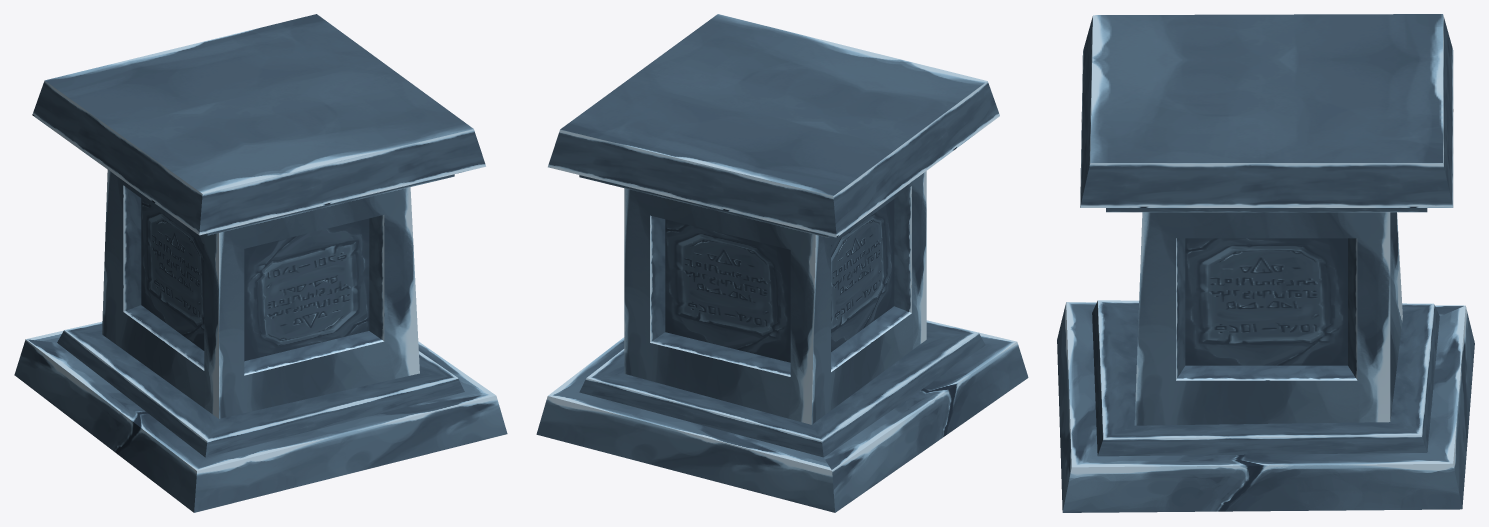
Rendered from SM_PROP_column_small_v03_01.fbx.
The picture shows the model from 3 angles, left to right: view 1: azimuth 30°, elevation 25°; view 2: azimuth 150°, elevation 25°; view 3: azimuth 270°, elevation 25°; orthographic projection. The views are drawn at different scales.
Visible parts, largest first — view 1: SM_PROP_column_small_v03_01; view 2: SM_PROP_column_small_v03_01; view 3: SM_PROP_column_small_v03_01.
Part boxes in pixels (x1,y1,x2,y2): SM_PROP_column_small_v03_01: (14, 14, 507, 512); SM_PROP_column_small_v03_01: (536, 14, 1028, 512); SM_PROP_column_small_v03_01: (1057, 14, 1474, 512).
Size of the model in its own units: 110 by 100 by 112.
